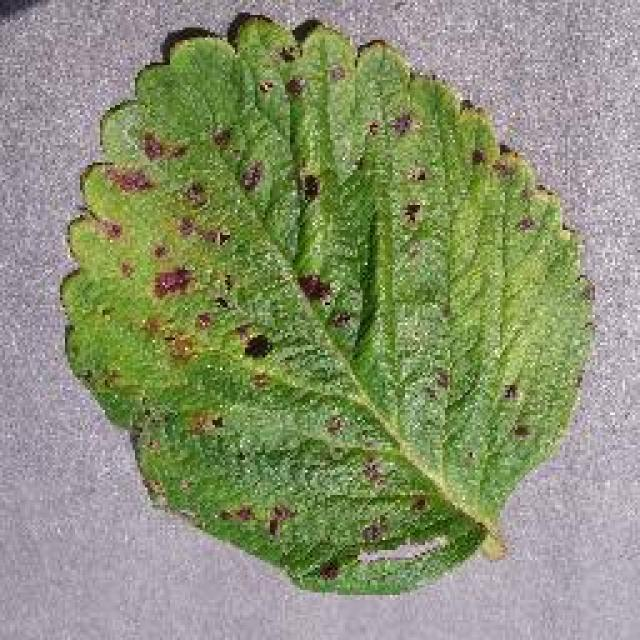Strawberry leaf scorch: (137, 105, 475, 425)
